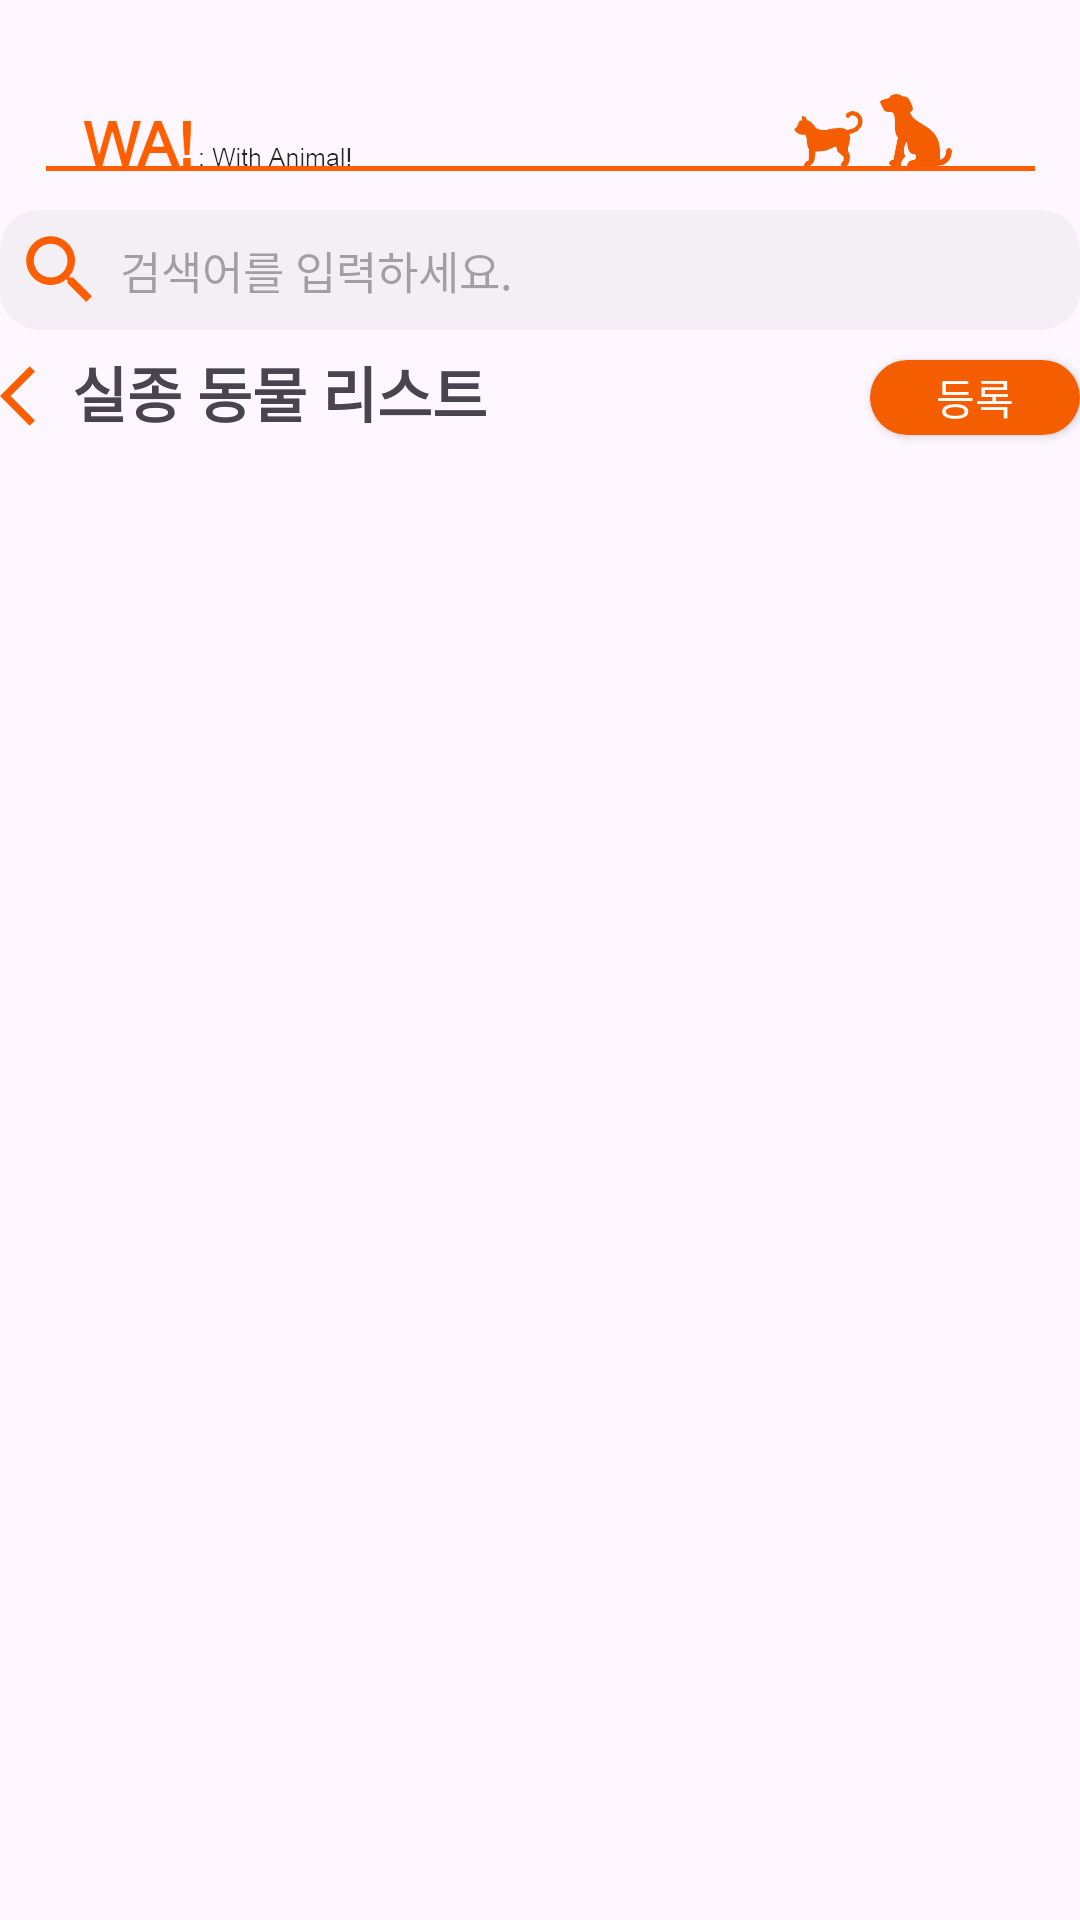

Named icons in this screenshot (1080px x 1920px) and their centers, [x,y]:
arrow back: [17,396]
search: [59,269]
